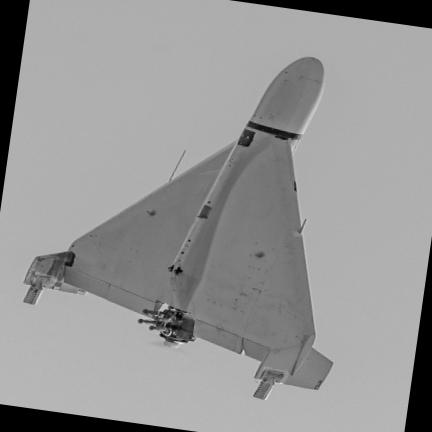Shahed: (26, 57, 331, 392)
